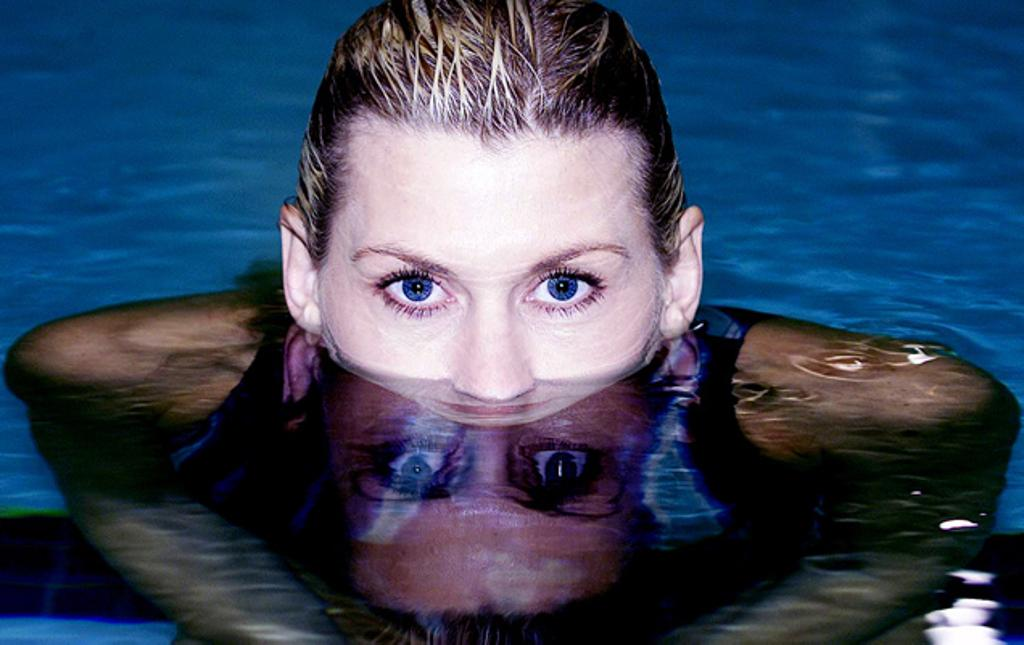face: (328, 126, 666, 508)
